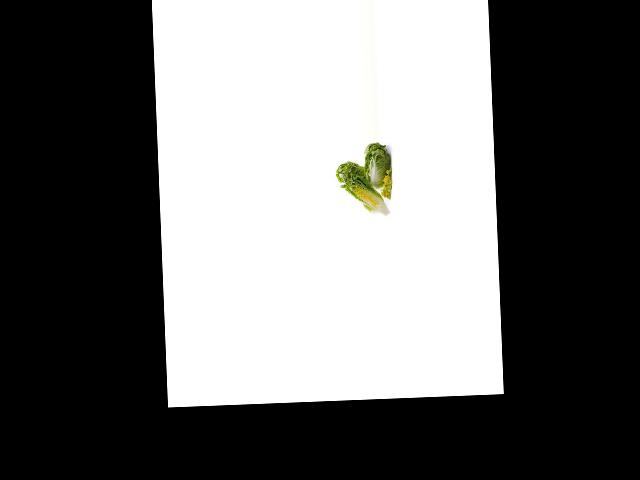lettuce: (362, 143, 394, 194)
